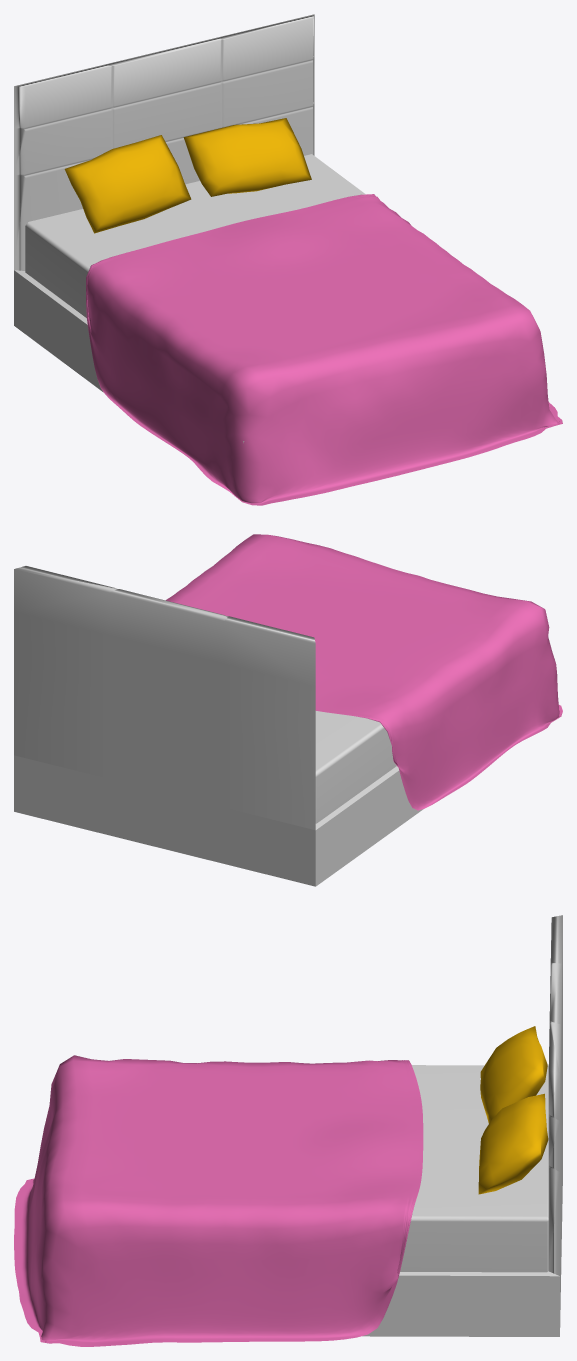
Rendered from Lit.fbx.
3 views of the same model, one above another, from view 1: azimuth 30°, elevation 25°; view 2: azimuth 150°, elevation 25°; view 3: azimuth 270°, elevation 25° (orthographic). The views are drawn at different scales.
Parts seen in each view (by area): view 1: Drap, Lit, Oreiller, Oreiller1; view 2: Lit, Drap; view 3: Drap, Lit, Oreiller1, Oreiller.
Part boxes in pixels (x1,y1,x2,y2): Drap: (86, 194, 562, 505); Lit: (14, 14, 365, 442); Oreiller: (64, 135, 191, 233); Oreiller1: (183, 118, 311, 196); Lit: (14, 566, 554, 886); Drap: (166, 534, 562, 810); Drap: (14, 1055, 423, 1346); Lit: (362, 915, 562, 1336); Oreiller1: (478, 1093, 548, 1194); Oreiller: (480, 1026, 547, 1123).
Size of the model in its own units: 1.92 by 1.32 by 2.46.
